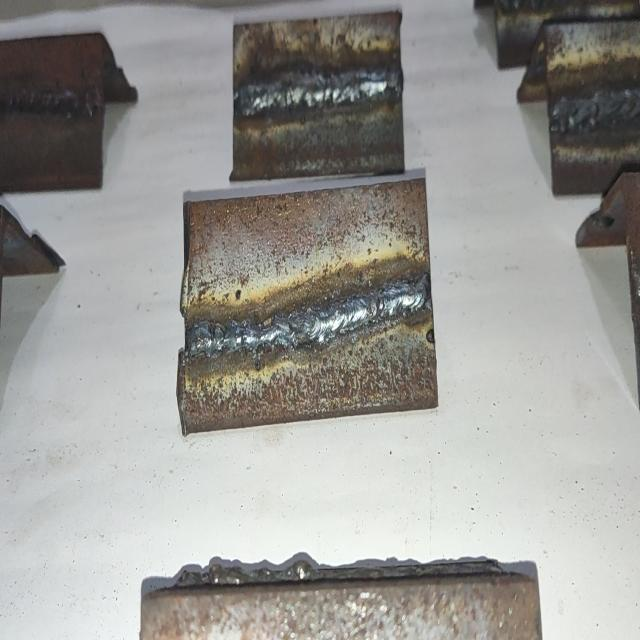Defect: (186, 319, 311, 359)
Welding Line: (186, 272, 430, 362), (235, 64, 402, 118), (549, 88, 640, 134), (0, 84, 102, 119)
Workpiece: (177, 174, 438, 436), (230, 13, 406, 182), (544, 0, 639, 204), (0, 25, 111, 195)
